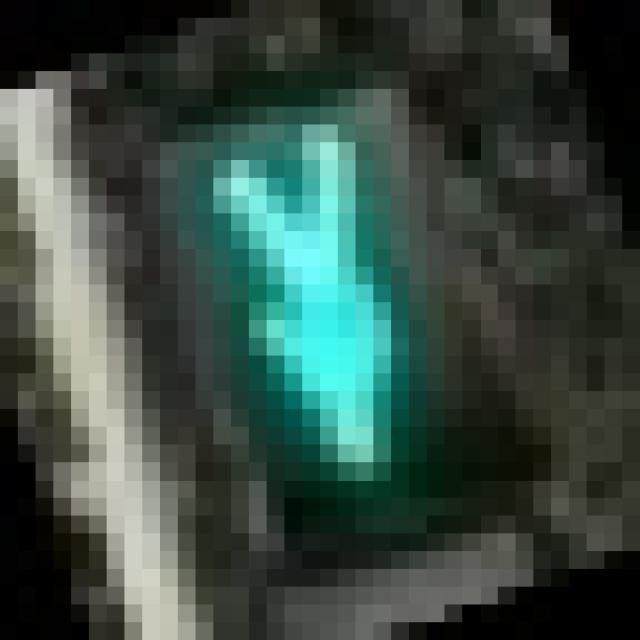green_light: (71, 36, 498, 551)
